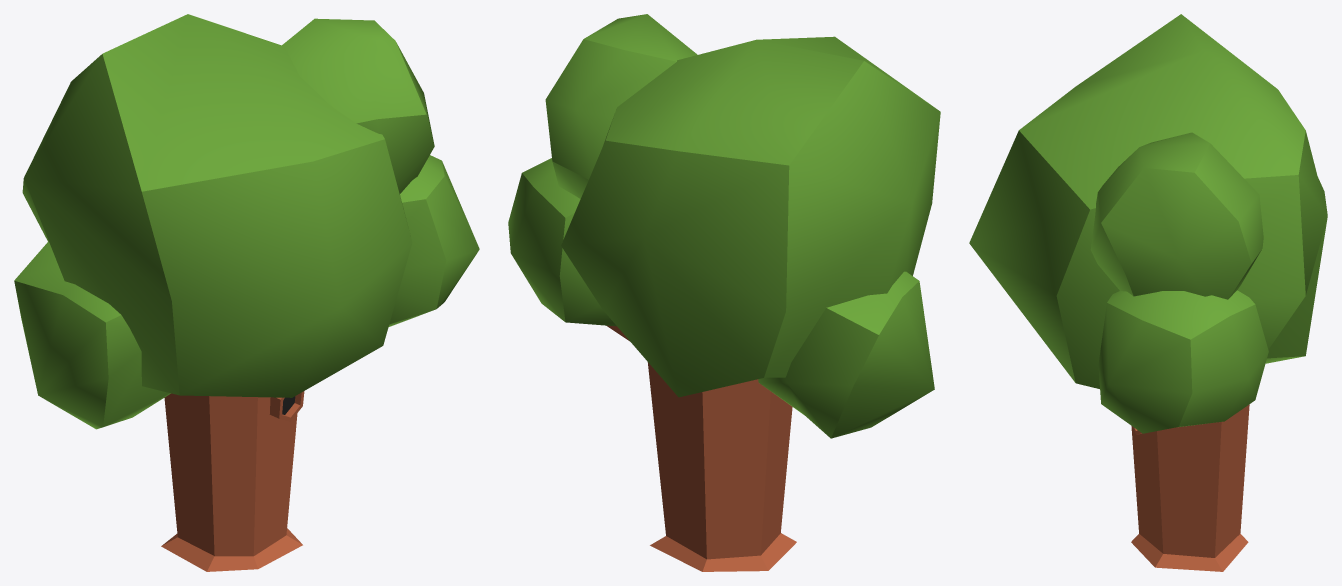
Rendered from d5df55f0-c547-4eeb-ae12-61a2e74c9414.glb.
3 renders of one model, left to right at view 1: azimuth 30°, elevation 25°; view 2: azimuth 150°, elevation 25°; view 3: azimuth 270°, elevation 25°, orthographic. The views are drawn at different scales.
Visible parts, largest first — view 1: Tree_III; view 2: Tree_III; view 3: Tree_III.
Boxes of the visible parts, x1,y1,x2,y2 form: Tree_III: (14, 14, 479, 571); Tree_III: (508, 14, 940, 571); Tree_III: (969, 14, 1327, 571).
Bounding box in the file's own units: 7.49 × 8.96 × 6.09.
Materials: 1 (1 with a texture image).
